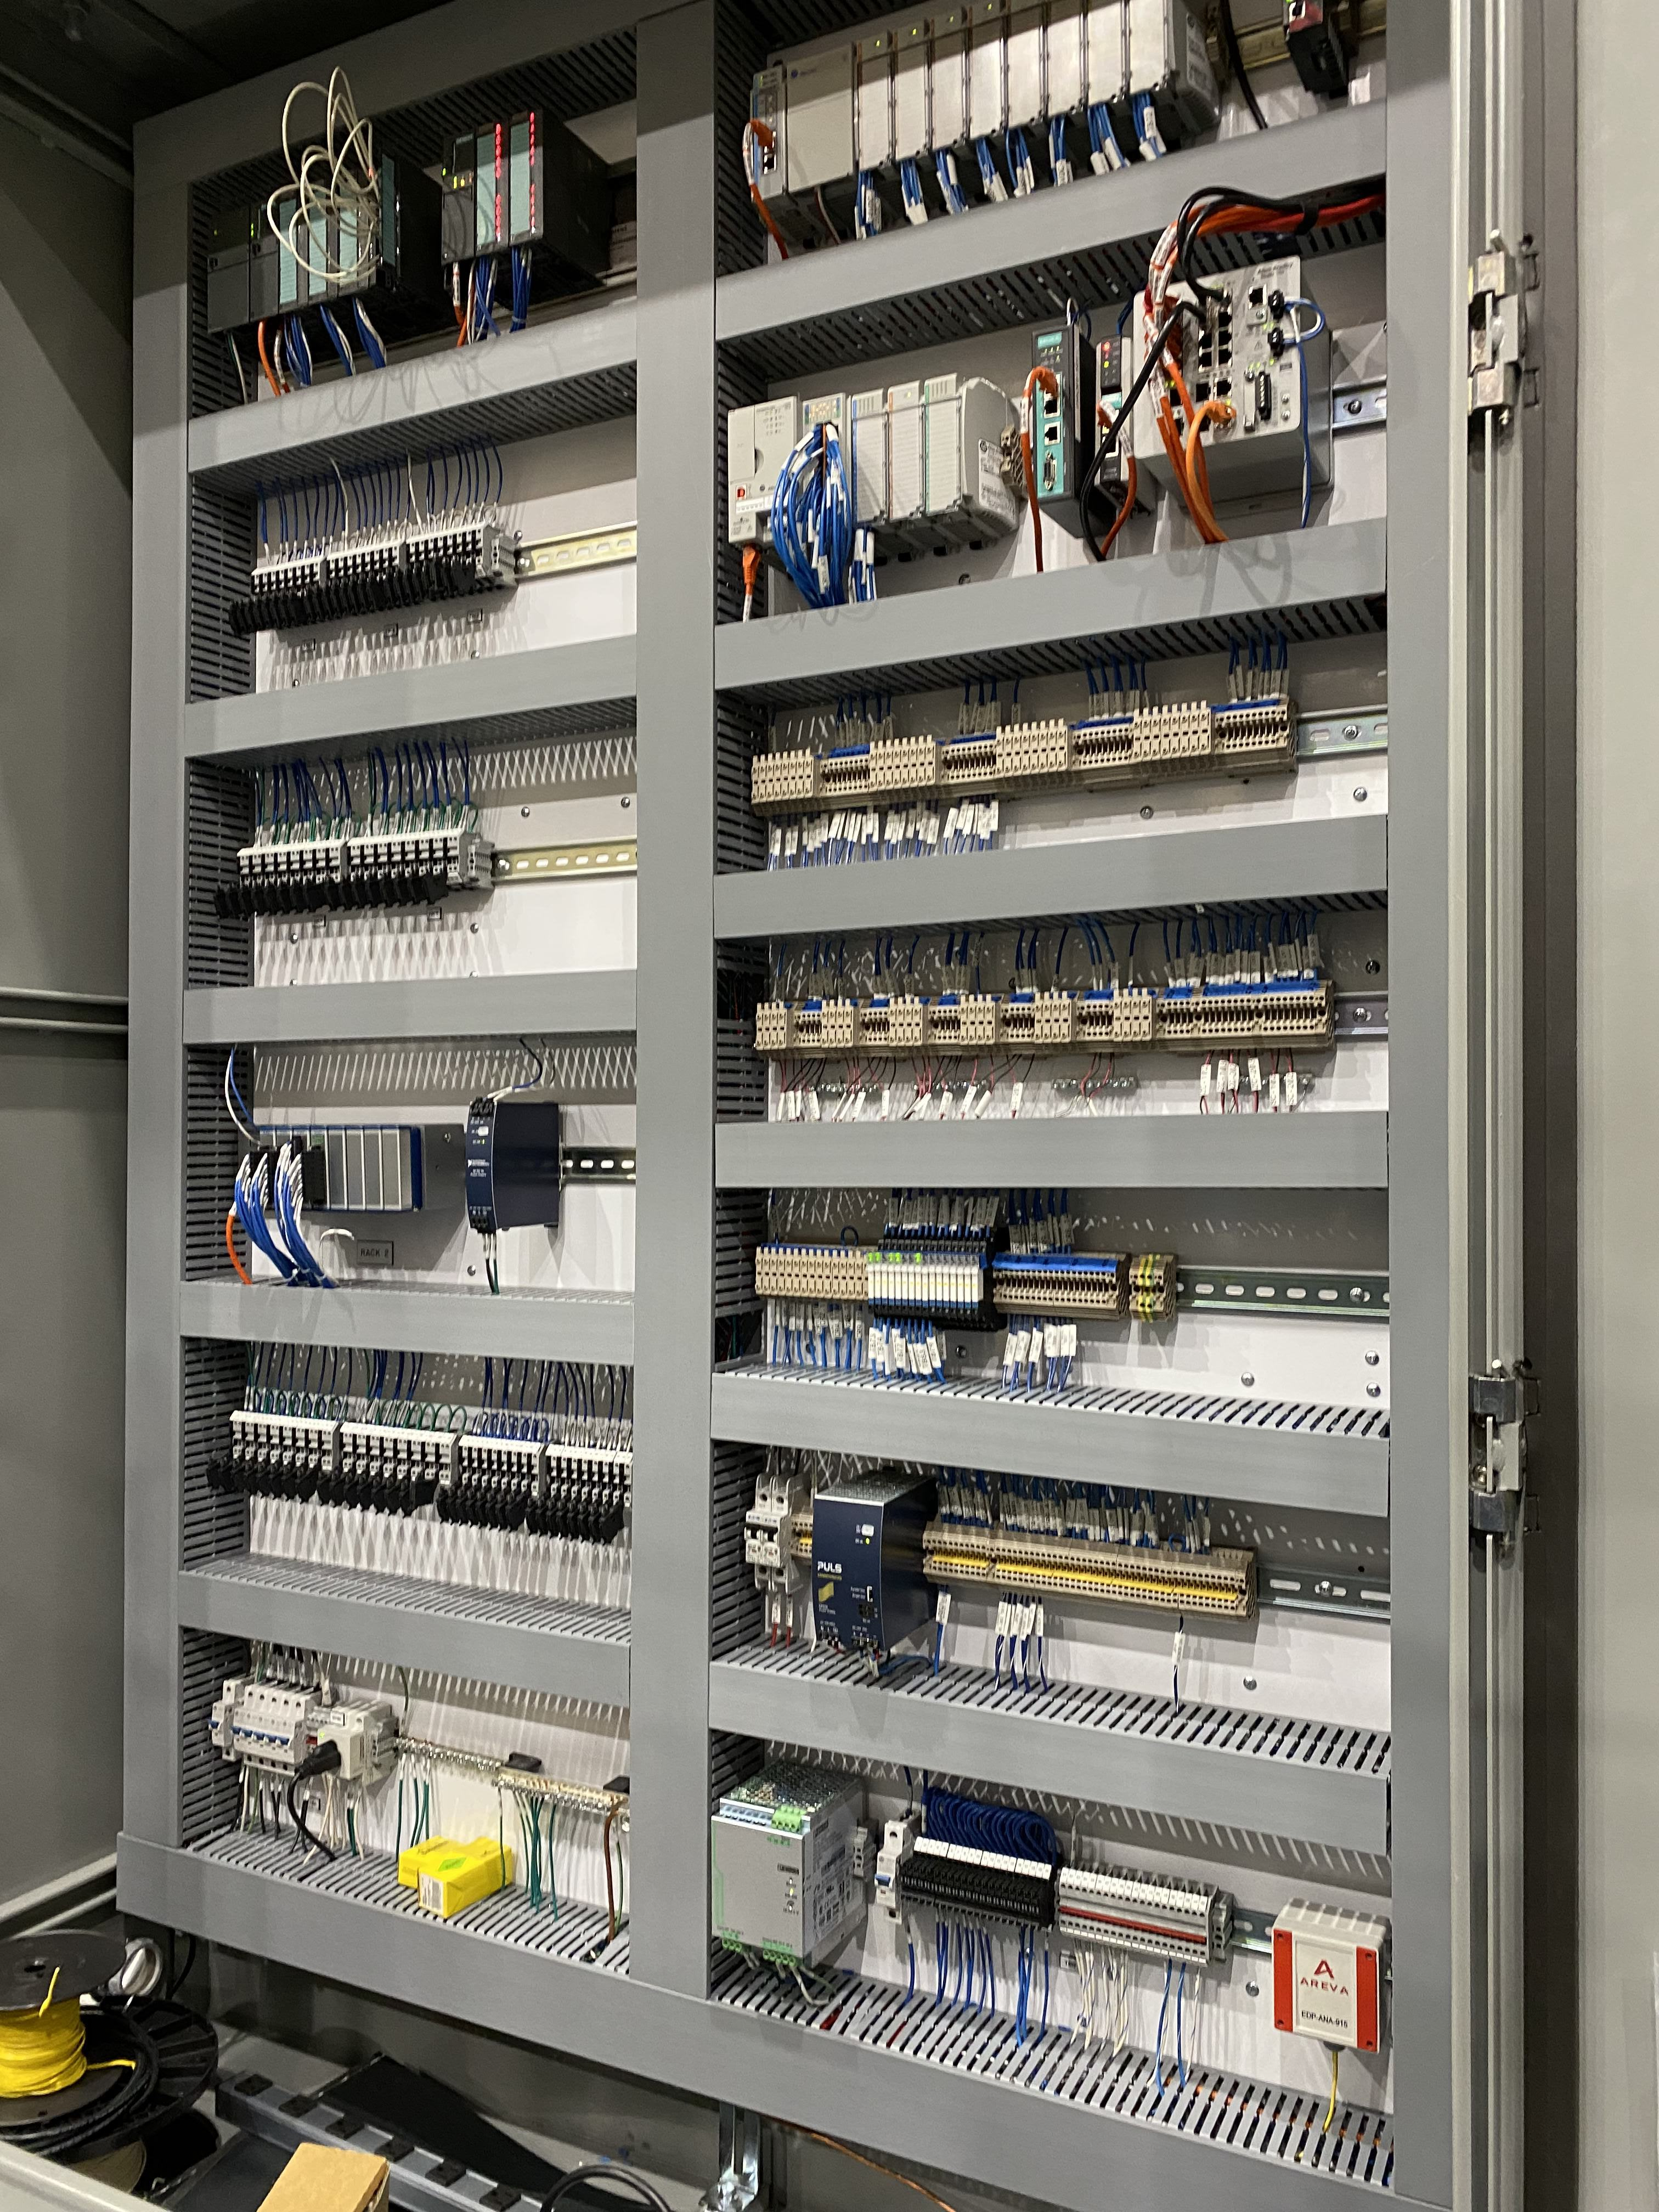AllenBradley: (723, 390, 803, 547)
Siemens: (244, 195, 284, 329)
